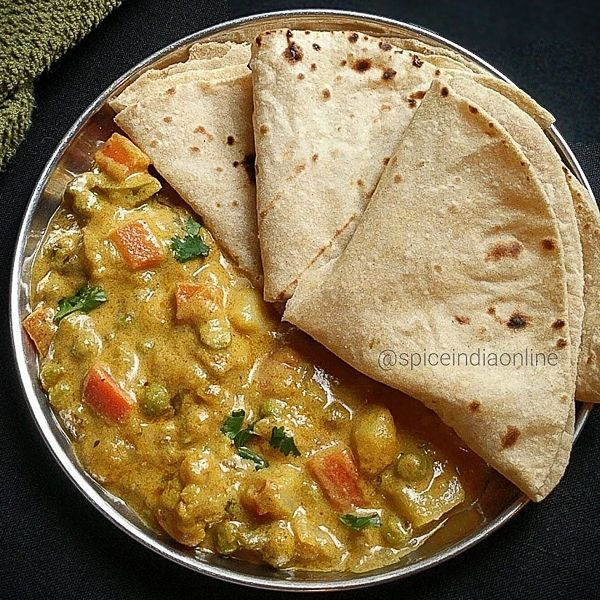curry: (32, 282, 401, 519)
roti: (299, 87, 578, 337), (230, 31, 449, 304), (121, 27, 295, 281)
